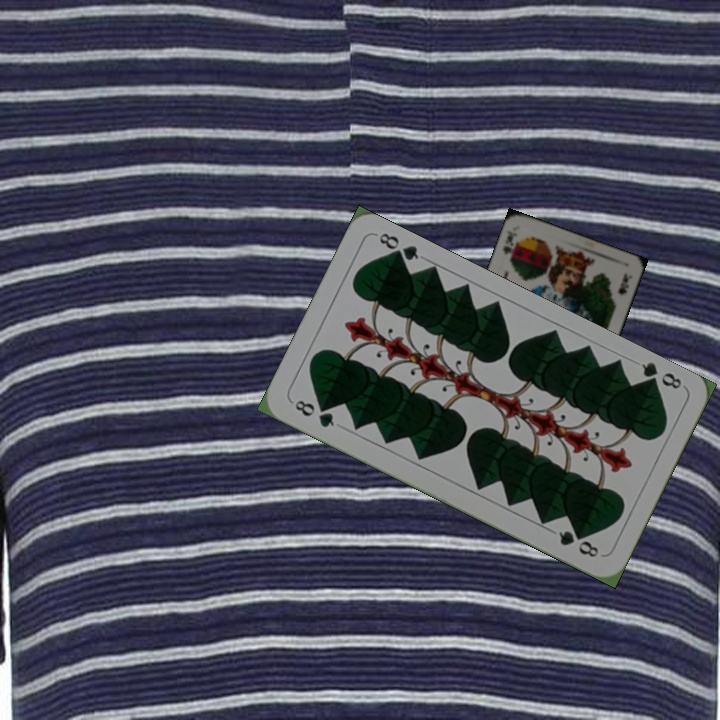G8: (637, 358, 685, 393), (290, 396, 338, 430)
SK: (499, 231, 520, 265)
